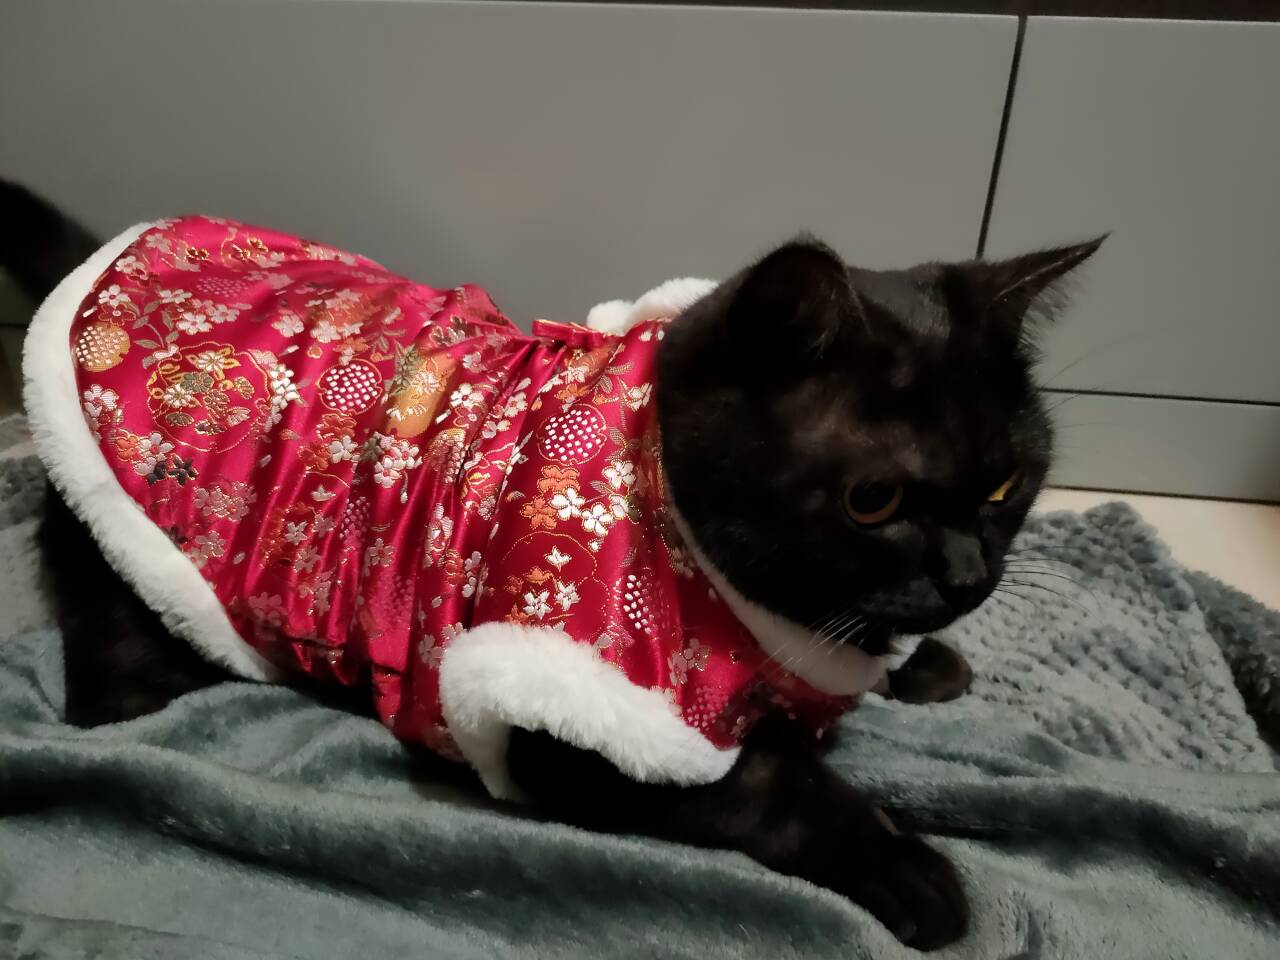black: (3, 175, 1058, 926)
